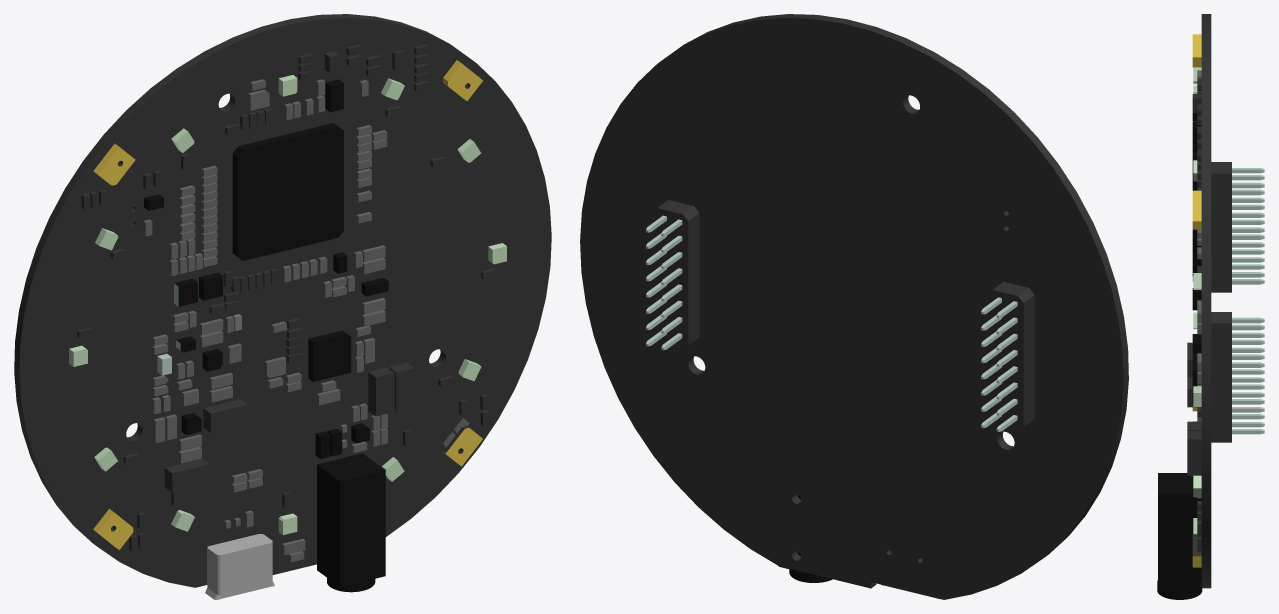
File: speaker.obj
The picture shows the model from 3 angles, left to right: view 1: azimuth 30°, elevation 25°; view 2: azimuth 150°, elevation 25°; view 3: azimuth 270°, elevation 25°; orthographic projection. The views are drawn at different scales.
Visible parts, largest first — view 1: mesh370, mesh1188, mesh35, mesh20, mesh33, mesh64, mesh1162, mesh34, mesh1093, mesh1098, mesh1103, mesh1088 (+5 smaller); view 2: mesh2, mesh20, mesh225, mesh80, mesh3, mesh8; view 3: mesh20, mesh32, mesh5, mesh10, mesh34, mesh1106, mesh1194, mesh1071, mesh37, mesh6, mesh11, mesh1083.
Part boxes in pixels (bbox=[...]): mesh370: bbox=[19, 18, 551, 587]; mesh1188: bbox=[237, 126, 343, 260]; mesh35: bbox=[340, 470, 385, 586]; mesh20: bbox=[14, 14, 454, 546]; mesh33: bbox=[317, 465, 340, 586]; mesh64: bbox=[220, 543, 271, 598]; mesh1162: bbox=[313, 334, 351, 381]; mesh34: bbox=[317, 453, 385, 481]; mesh1093: bbox=[172, 464, 209, 492]; mesh1098: bbox=[211, 405, 248, 432]; mesh1103: bbox=[396, 368, 414, 411]; mesh1088: bbox=[376, 373, 394, 416]; mesh2: bbox=[580, 18, 1123, 599]; mesh20: bbox=[680, 14, 1128, 557]; mesh225: bbox=[657, 208, 688, 345]; mesh80: bbox=[992, 290, 1023, 427]; mesh3: bbox=[688, 213, 699, 345]; mesh8: bbox=[1023, 295, 1034, 426]; mesh20: bbox=[1201, 14, 1211, 588]; mesh32: bbox=[1158, 493, 1201, 592]; mesh5: bbox=[1211, 323, 1231, 442]; mesh10: bbox=[1211, 173, 1231, 292]; mesh34: bbox=[1158, 473, 1193, 493]; mesh1106: bbox=[1187, 439, 1201, 475]; mesh1194: bbox=[1192, 173, 1201, 266]; mesh1071: bbox=[1192, 190, 1201, 221]; mesh37: bbox=[1157, 584, 1202, 599]; mesh6: bbox=[1211, 312, 1231, 323]; mesh11: bbox=[1211, 162, 1231, 173]; mesh1083: bbox=[1192, 34, 1201, 57].
Size of the model in its own units: 0.07 by 0.0705 by 0.0131.
